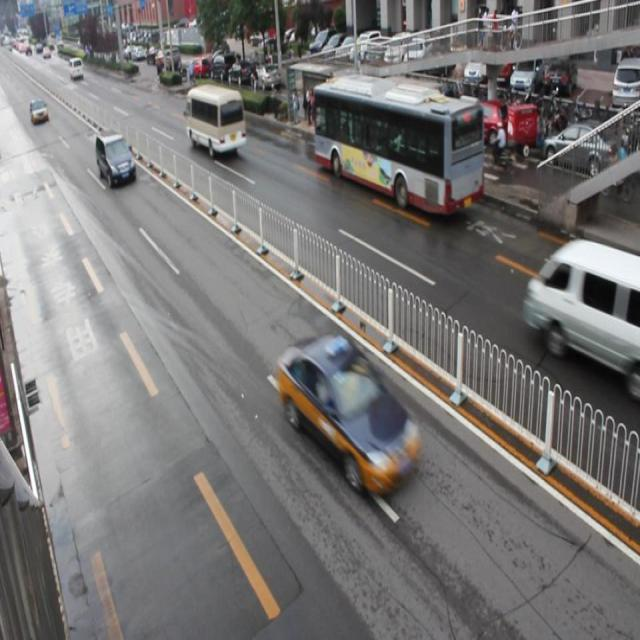car: (277, 333, 420, 493)
truck: (522, 235, 640, 383), (186, 84, 246, 152), (95, 128, 136, 188)
van: (314, 76, 482, 216)
